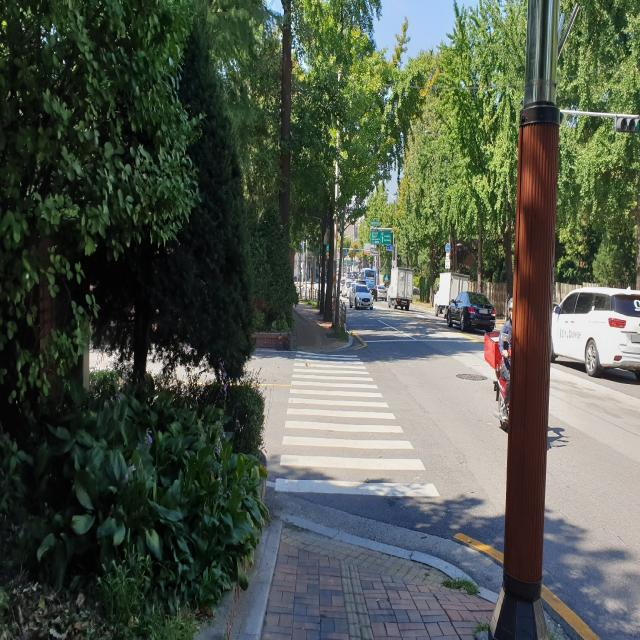횡단보도: (274, 349, 441, 498)
